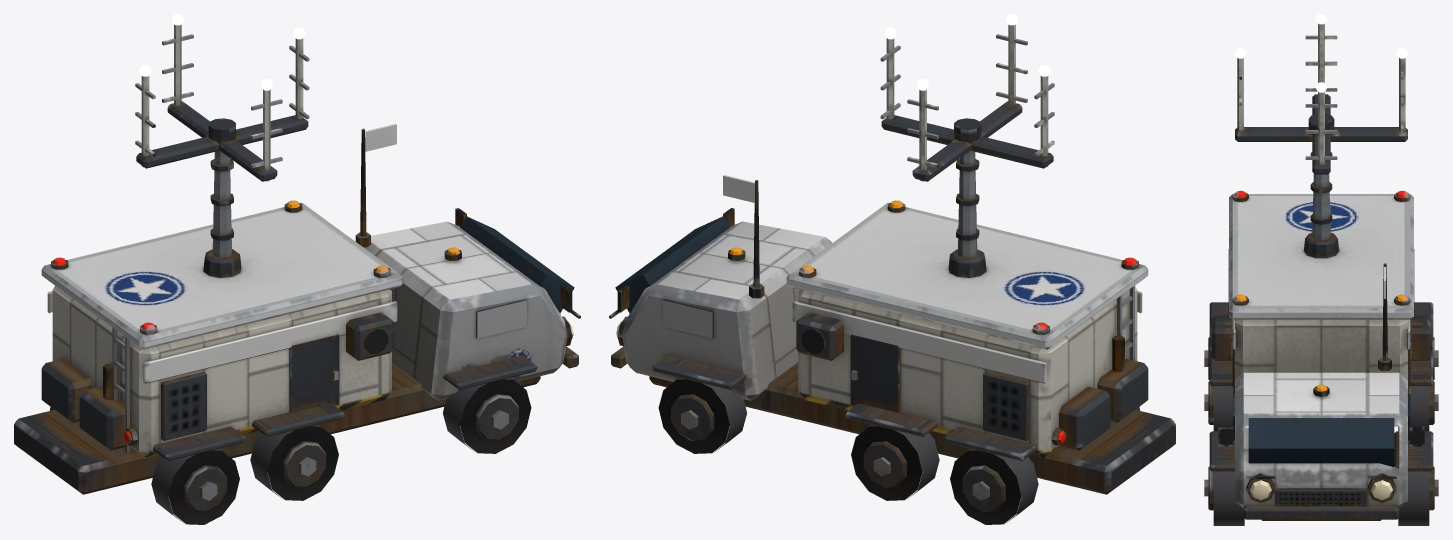
The model's file is mrj.allies.glb.
The picture shows the model from 3 angles, left to right: view 1: azimuth 30°, elevation 25°; view 2: azimuth 150°, elevation 25°; view 3: azimuth 270°, elevation 25°; orthographic projection. The views are drawn at different scales.
Visible parts, largest first — view 1: root_mesh, array_mesh, mast_mesh; view 2: root_mesh, array_mesh, mast_mesh; view 3: root_mesh, array_mesh, mast_mesh.
Boxes of the visible parts, x1,y1,x2,y2 form: root_mesh: (14,123,580,524); array_mesh: (135,14,309,181); mast_mesh: (210,150,233,257); root_mesh: (609,175,1175,524); array_mesh: (880,14,1054,181); mast_mesh: (956,150,979,257); root_mesh: (1204,190,1438,525); array_mesh: (1235,14,1407,174); mast_mesh: (1310,152,1332,240).
Size of the model in its own units: 0.897 by 0.725 by 0.406.
3 materials, 1 textured.
